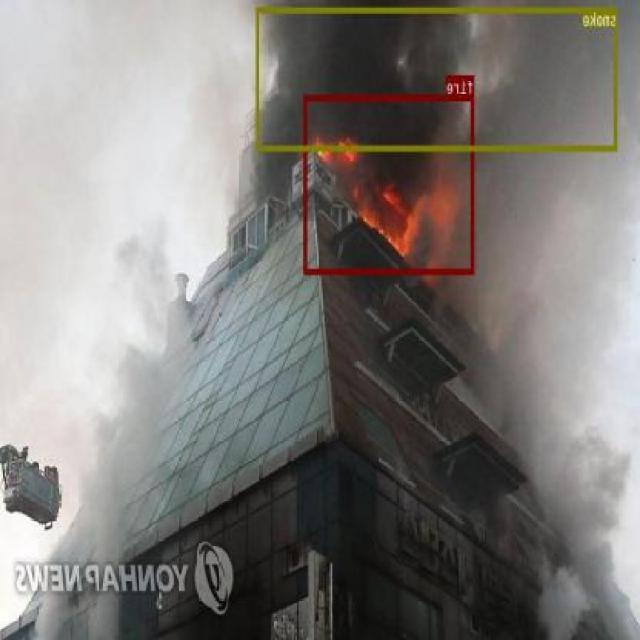Fire: (304, 94, 476, 274)
Smoke: (256, 8, 618, 150)
